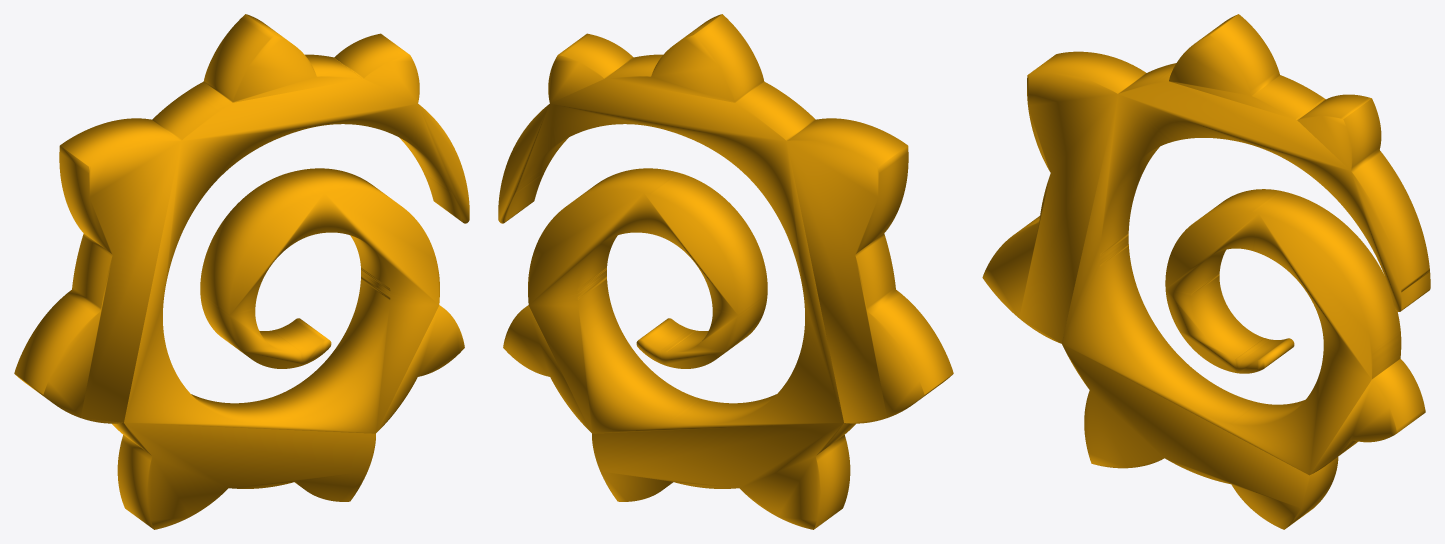
File: grafana-transformed.glb
3 views of the same model, side by side, from view 1: azimuth 30°, elevation 25°; view 2: azimuth 150°, elevation 25°; view 3: azimuth 330°, elevation 25° (orthographic).
Visible parts, largest first — view 1: geometry_0; view 2: geometry_0; view 3: geometry_0.
Boxes of the visible parts, <box> form: geometry_0: <box>14,14,469,529</box>; geometry_0: <box>498,14,953,529</box>; geometry_0: <box>982,14,1430,529</box>.
Size of the model in its own units: 5.06 by 5.5 by 0.6.
